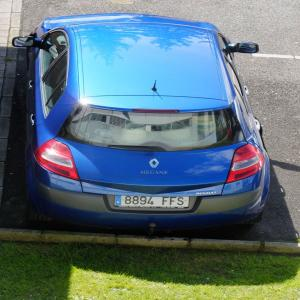Vehicle-registration-plate: (115, 196, 189, 208)
